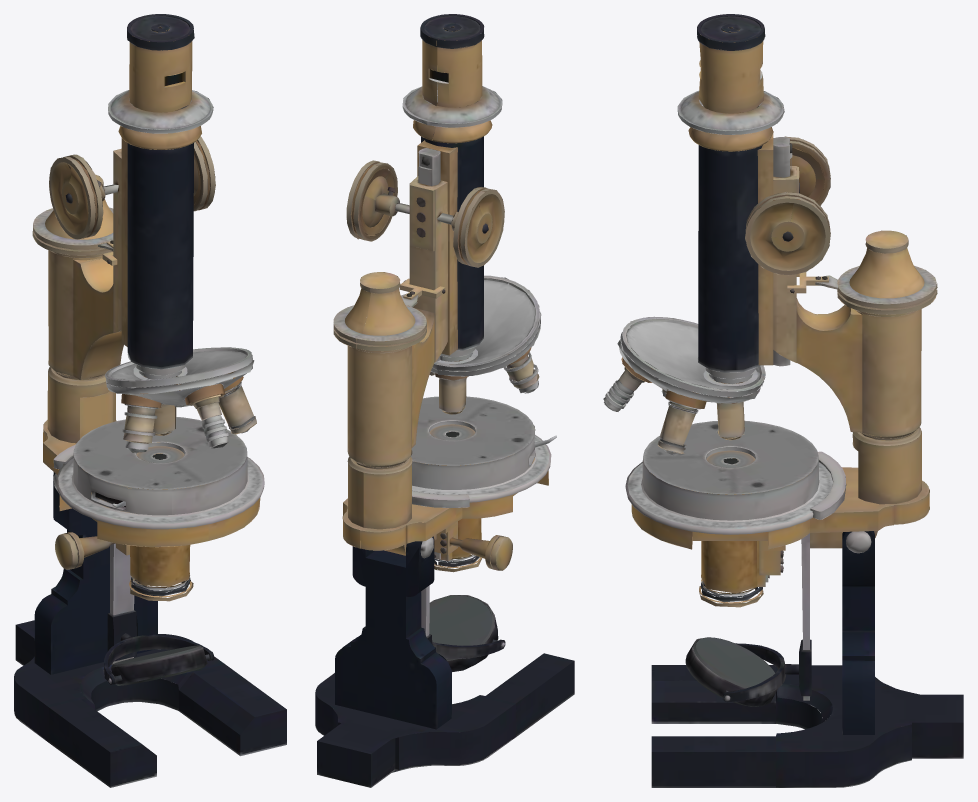
Rendered from vintage_microscope.glb.
The picture shows the model from 3 angles, left to right: view 1: azimuth 30°, elevation 25°; view 2: azimuth 150°, elevation 25°; view 3: azimuth 270°, elevation 25°; orthographic projection. The views are drawn at different scales.
Parts seen in each view (by area): view 1: vintage_microscope_rack_mount_support, vintage_microscope_eye_piece, vintage_microscope_base, vintage_microscope_revolver, vintage_microscope_adjustment, vintage_microscope_mirror_arm, vintage_microscope_condenser, vintage_microscope_mirror_base; view 2: vintage_microscope_rack_mount_support, vintage_microscope_base, vintage_microscope_eye_piece, vintage_microscope_adjustment, vintage_microscope_mirror_base, vintage_microscope_revolver, vintage_microscope_condenser, vintage_microscope_mirror_arm; view 3: vintage_microscope_rack_mount_support, vintage_microscope_base, vintage_microscope_eye_piece, vintage_microscope_adjustment, vintage_microscope_revolver, vintage_microscope_condenser, vintage_microscope_mirror_base, vintage_microscope_mirror_arm.
Boxes of the visible parts, box(x1,y1,x2,y2) form: vintage_microscope_rack_mount_support: box(32, 148, 264, 569); vintage_microscope_eye_piece: box(104, 14, 252, 387); vintage_microscope_base: box(14, 472, 286, 787); vintage_microscope_revolver: box(106, 360, 256, 452); vintage_microscope_adjustment: box(49, 136, 215, 239); vintage_microscope_mirror_arm: box(103, 543, 214, 684); vintage_microscope_condenser: box(129, 446, 193, 601); vintage_microscope_mirror_base: box(111, 645, 207, 685); vintage_microscope_rack_mount_support: box(333, 176, 556, 570); vintage_microscope_base: box(315, 536, 574, 787); vintage_microscope_eye_piece: box(402, 14, 540, 371); vintage_microscope_adjustment: box(346, 160, 504, 267); vintage_microscope_mirror_base: box(429, 595, 498, 671); vintage_microscope_revolver: box(429, 298, 541, 414); vintage_microscope_condenser: box(429, 424, 482, 572); vintage_microscope_mirror_arm: box(421, 585, 505, 659); vintage_microscope_rack_mount_support: box(625, 166, 937, 575); vintage_microscope_base: box(651, 531, 963, 787); vintage_microscope_eye_piece: box(620, 14, 792, 397); vintage_microscope_adjustment: box(745, 136, 830, 275); vintage_microscope_revolver: box(603, 327, 763, 455); vintage_microscope_condenser: box(699, 450, 769, 607); vintage_microscope_mirror_base: box(685, 637, 777, 706); vintage_microscope_mirror_arm: box(722, 533, 811, 702).
Bounding box in the file's own units: 0.1065 × 0.3996 × 0.1821.
2 materials, 2 textured.
